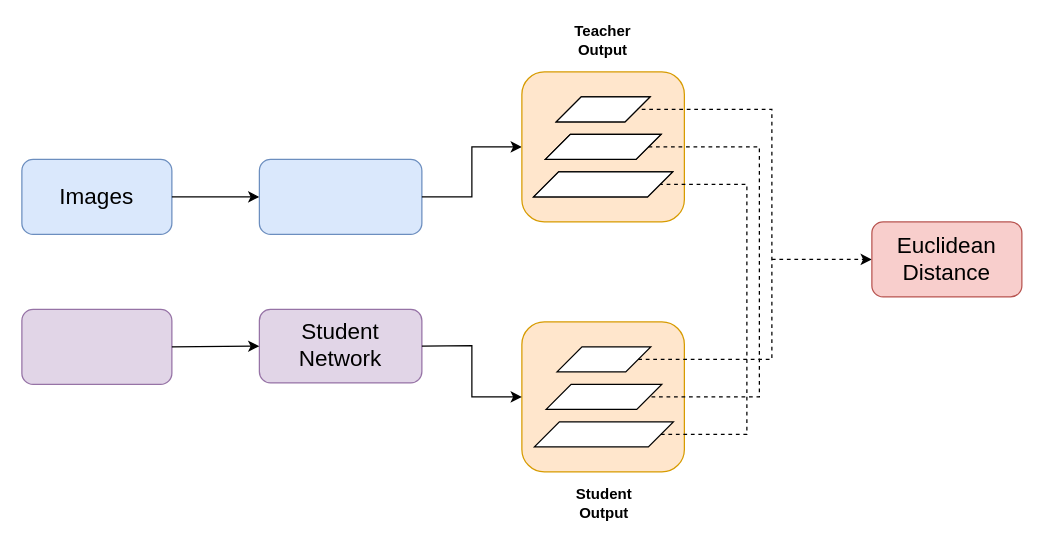
The diagram is 1044 pixels wide and 543 high, and some of its shapes have lost their labels. Each missing label, with the box of its shape:
Teacher Network: (258, 158, 422, 234)
WiFi Signals: (21, 308, 172, 384)
